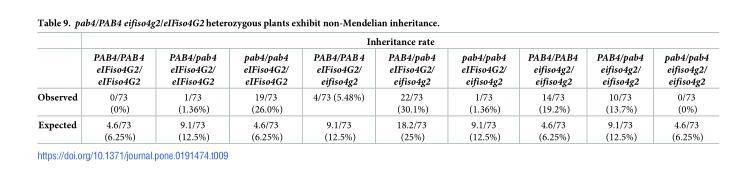table: (36, 36, 707, 141)
table column: (299, 36, 375, 141), (155, 36, 229, 141), (375, 36, 447, 141), (84, 36, 155, 141), (229, 36, 299, 141), (516, 36, 586, 141), (447, 36, 516, 141), (586, 36, 653, 141), (653, 36, 707, 141), (36, 36, 84, 141)
table column header: (36, 36, 707, 89)
table row: (36, 48, 707, 89), (36, 89, 707, 116), (36, 116, 707, 141), (36, 36, 707, 48)
table spanning cell: (84, 36, 707, 48)
